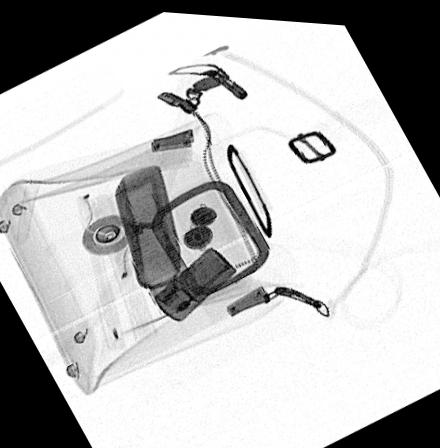Lighter: (152, 241, 237, 319)
